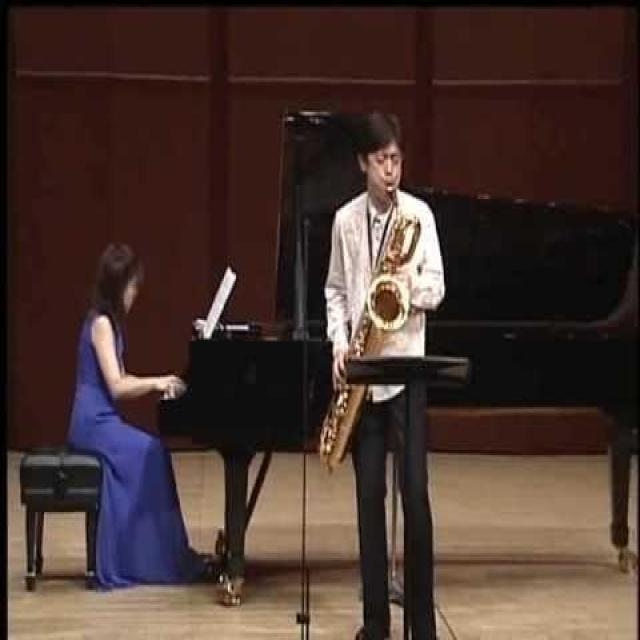saxophone: (316, 184, 422, 473)
